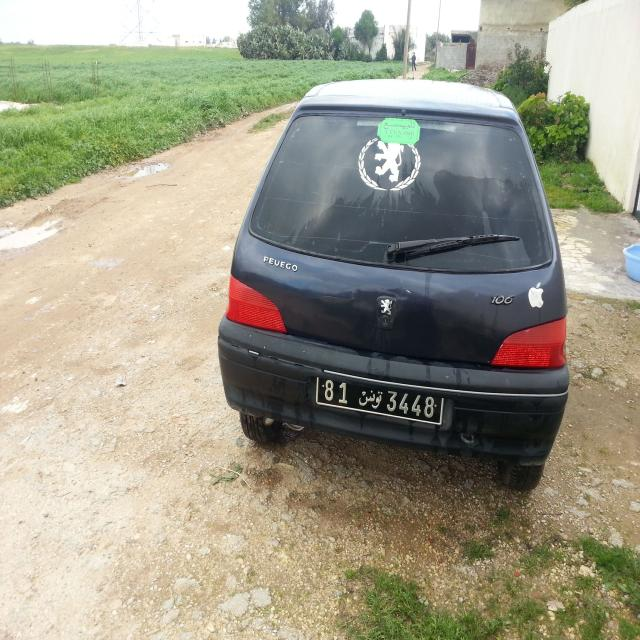LP: (315, 368, 443, 424)
